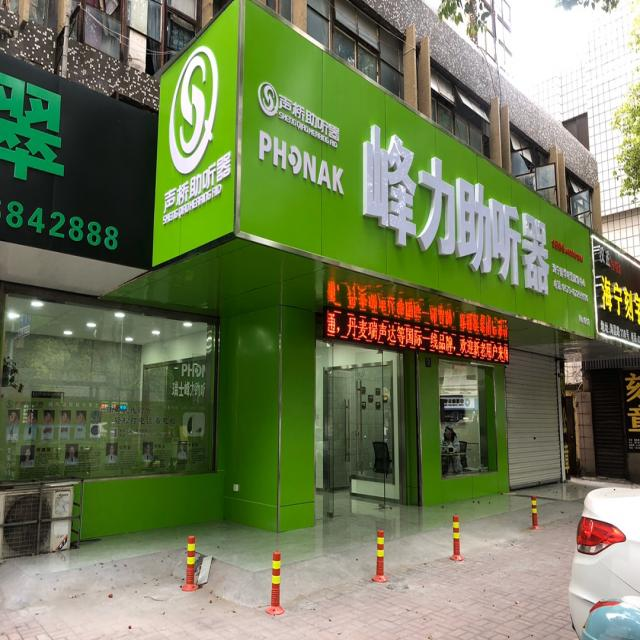car: (565, 483, 639, 625)
warning_column: (265, 551, 284, 614), (180, 535, 199, 589), (371, 527, 388, 580), (451, 512, 464, 560), (530, 493, 542, 529)
